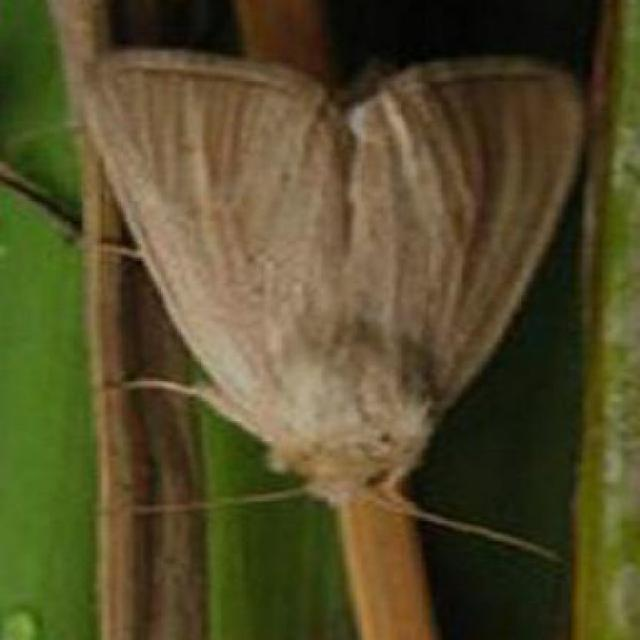stem-borer: (77, 45, 585, 563)
